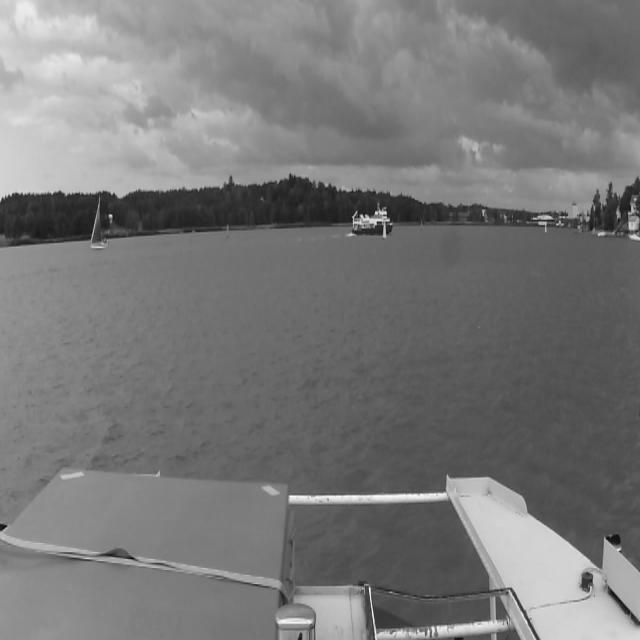buoy: (383, 221, 386, 239)
ship: (352, 202, 392, 234), (90, 196, 108, 248)
